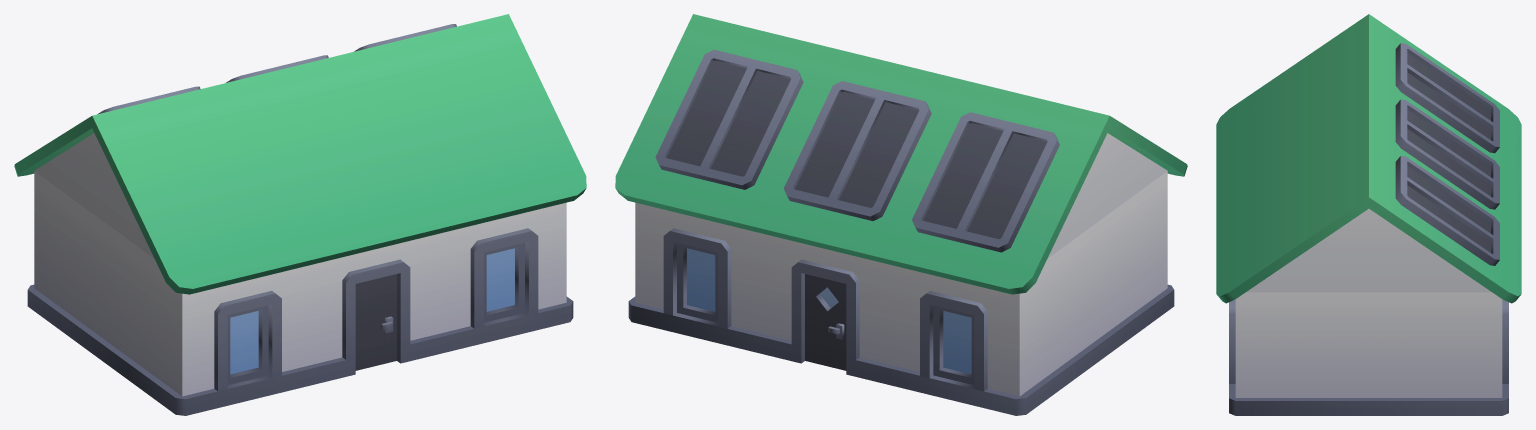
Rendered from building-type-h.glb.
The picture shows the model from 3 angles, left to right: view 1: azimuth 30°, elevation 25°; view 2: azimuth 150°, elevation 25°; view 3: azimuth 270°, elevation 25°; orthographic projection. The views are drawn at different scales.
Visible parts, largest first — view 1: building-type-h; view 2: building-type-h; view 3: building-type-h.
Part boxes in pixels (x1,y1,x2,y2): building-type-h: [14, 14, 586, 415]; building-type-h: [615, 14, 1187, 415]; building-type-h: [1216, 14, 1521, 415].
Bounding box in the file's own units: 1.3 × 0.7375 × 0.916.
Materials: 1 (1 with a texture image).
